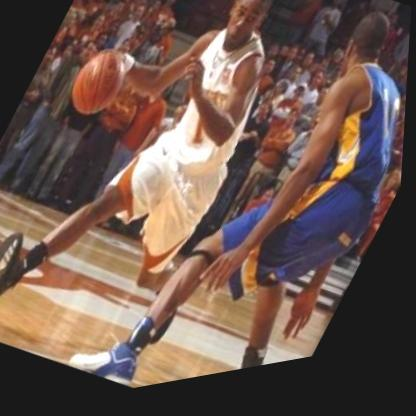basketball: (55, 36, 142, 136)
